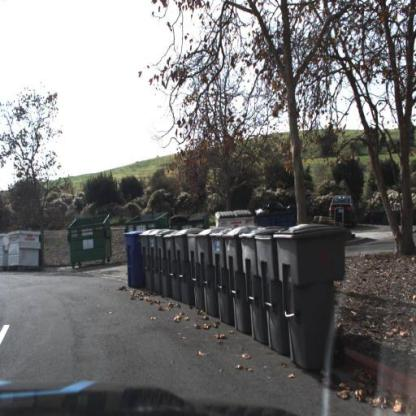car: (331, 195, 358, 230)
